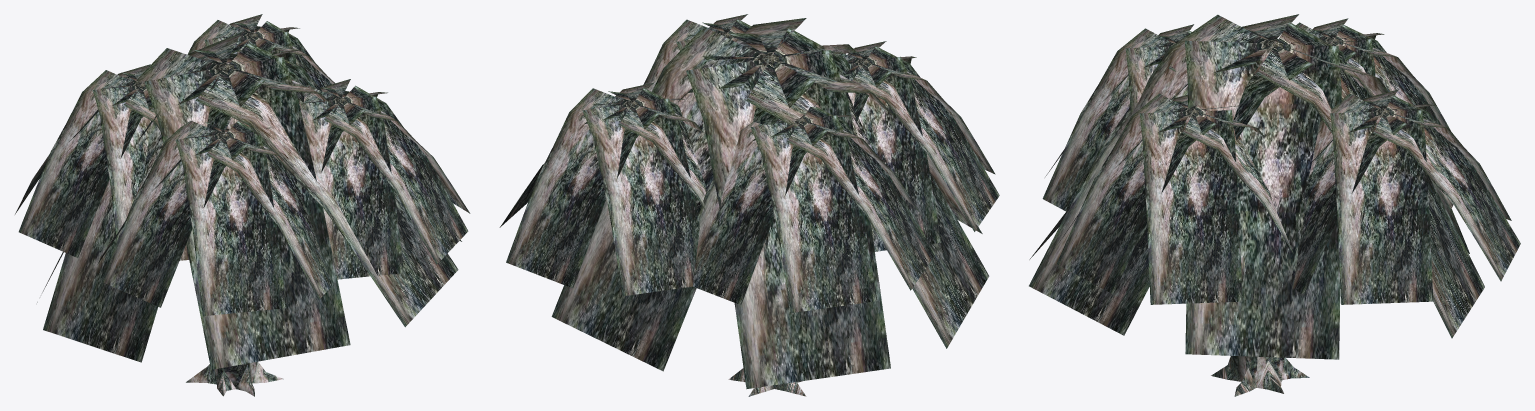
The picture shows the model from 3 angles, left to right: view 1: azimuth 30°, elevation 25°; view 2: azimuth 150°, elevation 25°; view 3: azimuth 270°, elevation 25°; orthographic projection. The views are drawn at different scales.
Visible parts, largest first — view 1: 2_Cluster2, 1_Trunk; view 2: 2_Cluster2, 1_Trunk; view 3: 2_Cluster2, 1_Trunk.
Boxes of the visible parts, x1,y1,x2,y2 form: 2_Cluster2: (15, 14, 470, 369); 1_Trunk: (186, 361, 283, 396); 2_Cluster2: (499, 14, 999, 389); 1_Trunk: (728, 368, 806, 396); 2_Cluster2: (1029, 14, 1520, 359); 1_Trunk: (1211, 356, 1309, 396).
Bounding box in the file's own units: 155 × 126 × 166.
1 material, 1 textured.
